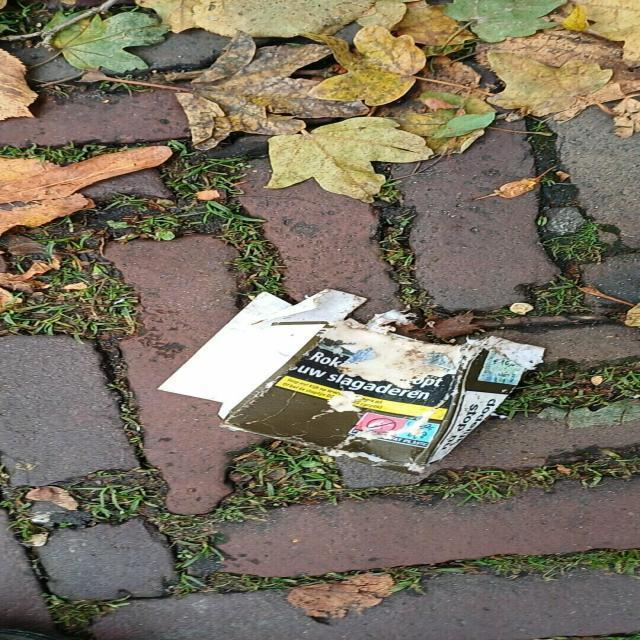Paper: (152, 286, 548, 478)
